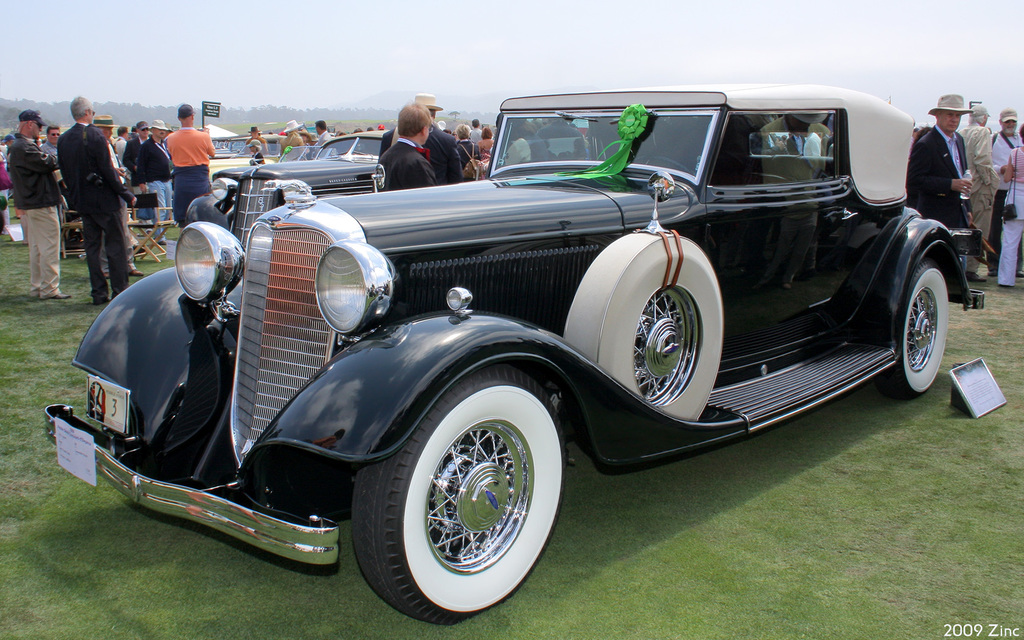Car: (47, 81, 983, 620), (186, 130, 384, 245)
